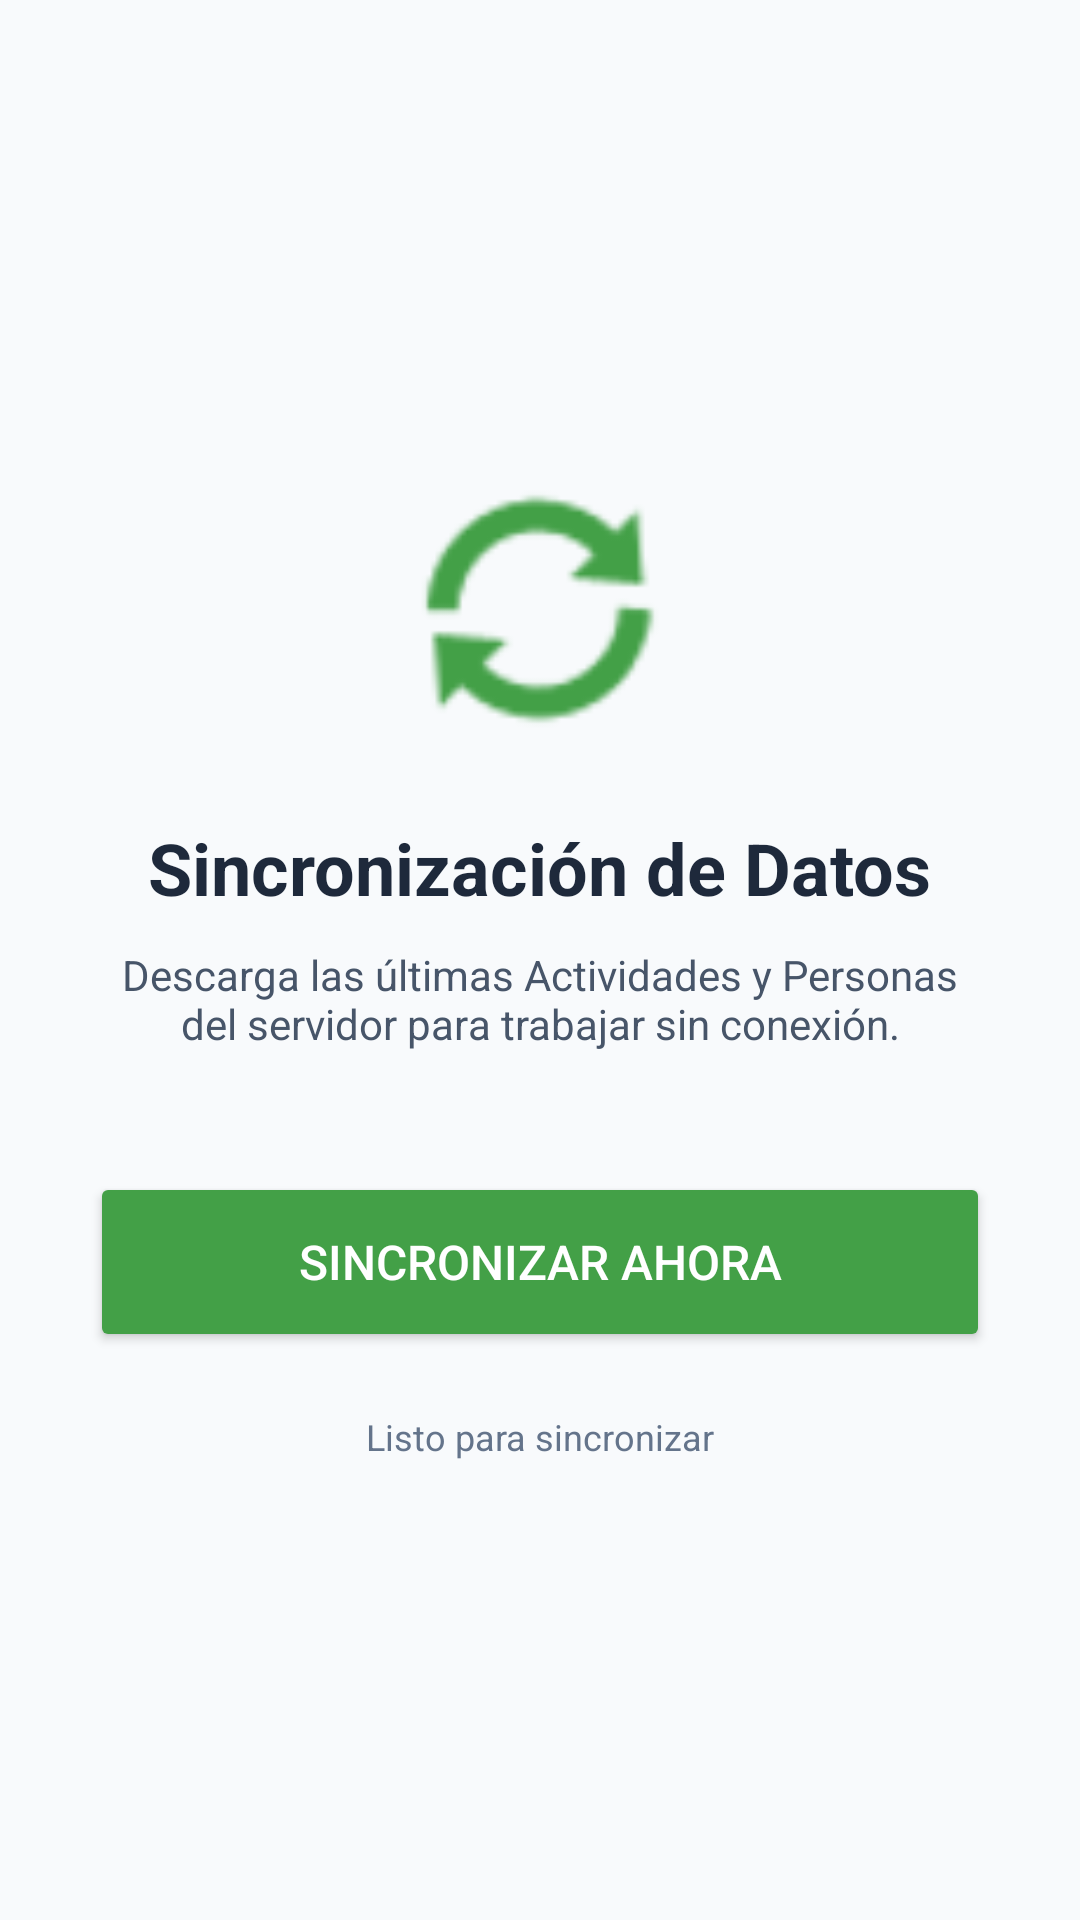

Screen size 1080px x 1920px. Icon name, then its box in pixels as rect(x1, y1, x2, y2):
Icono Sync: rect(425, 496, 654, 722)
